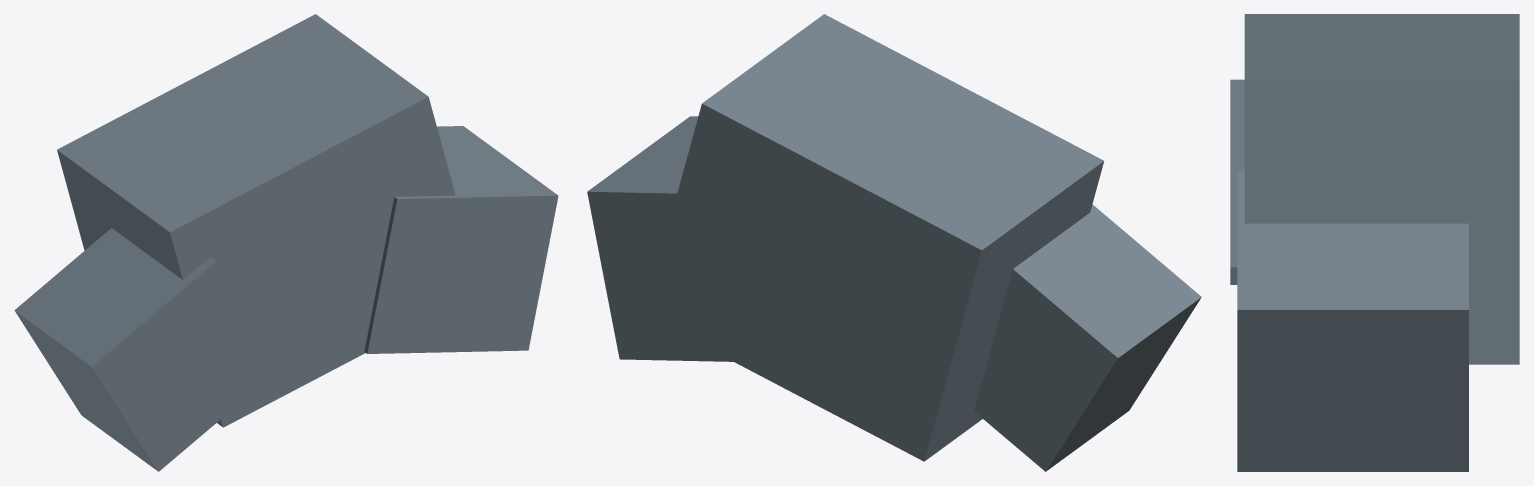
The model's file is stone.glb.
3 views of the same model, side by side, from view 1: azimuth 30°, elevation 25°; view 2: azimuth 150°, elevation 25°; view 3: azimuth 270°, elevation 25° (orthographic). The views are drawn at different scales.
Parts seen in each view (by area): view 1: stone; view 2: stone; view 3: stone.
Boxes of the visible parts, bbox=[...] form: stone: bbox=[14, 14, 558, 471]; stone: bbox=[587, 14, 1201, 471]; stone: bbox=[1230, 14, 1519, 471].
Size of the model in its own units: 2.28 by 1.41 by 1.
